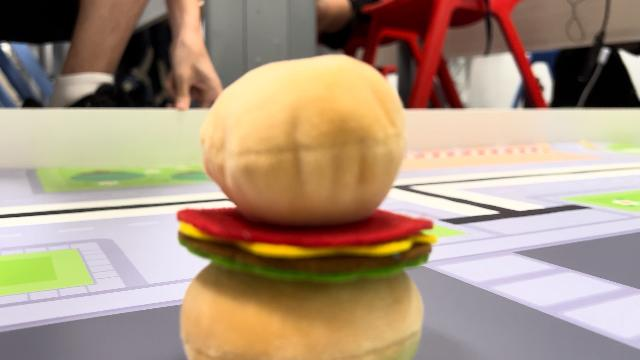burger: (178, 54, 432, 360)
